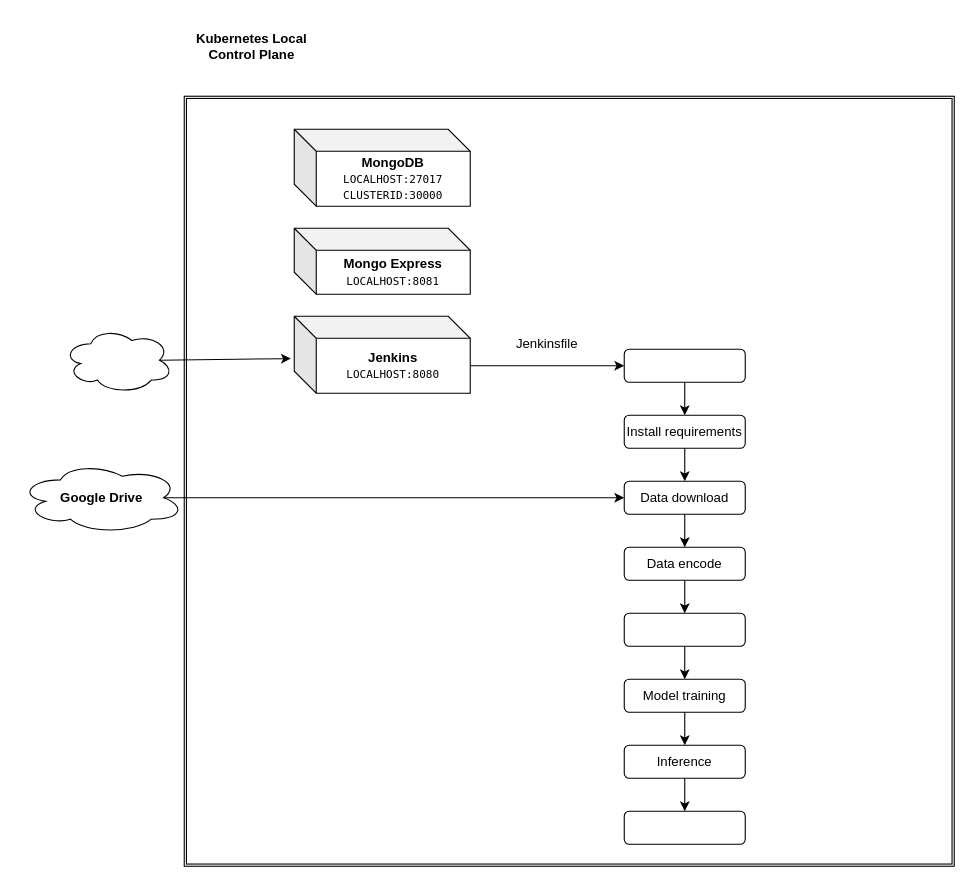
The diagram is 974 pixels wide and 886 high, and some of its shapes have lost their labels. Here are the shapes that lost their labels. From the top down, the centre of each, then its label:
point (117, 359): Sendgrid
point (684, 365): Run Python pod
point (684, 629): Data preprocess
point (684, 827): Create videos
